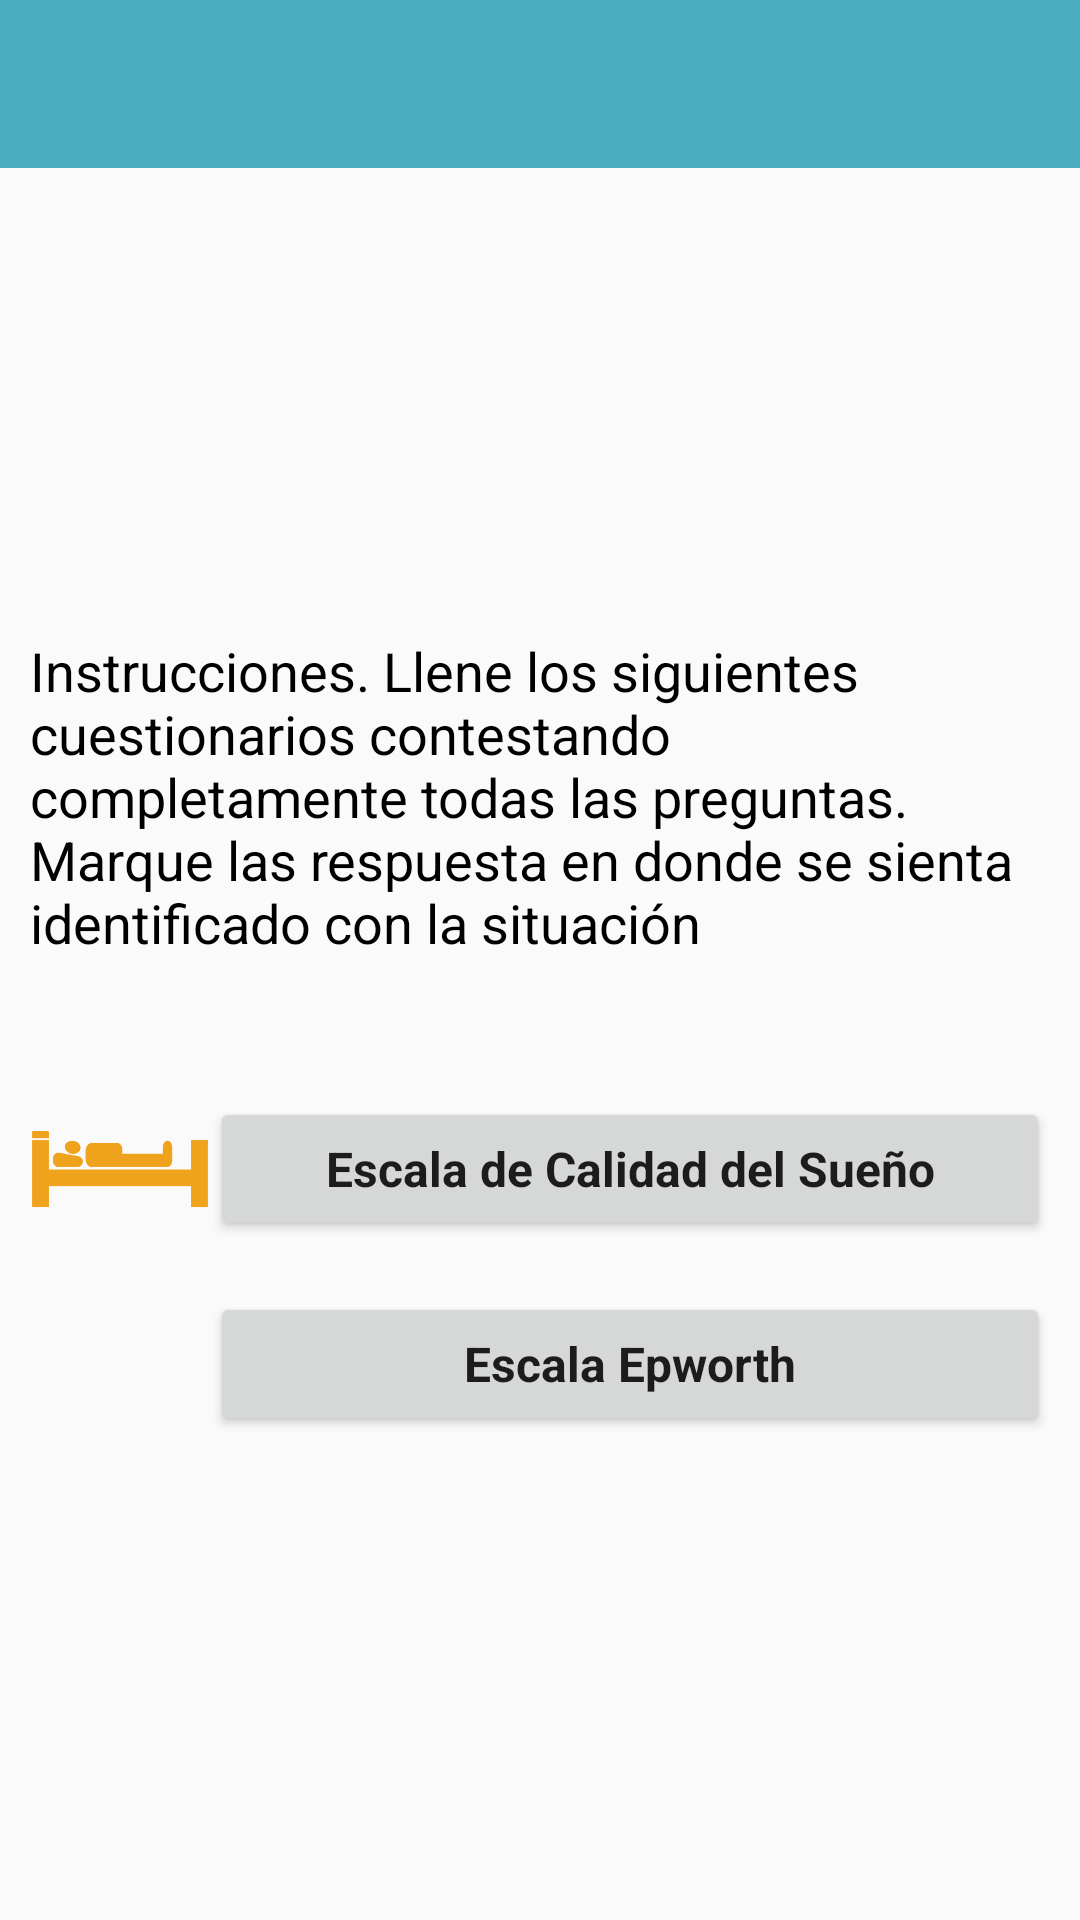

Where to tap for icons on this 1080 × 1920 app screen, as point (x, y):
bed: point (120, 1169)
